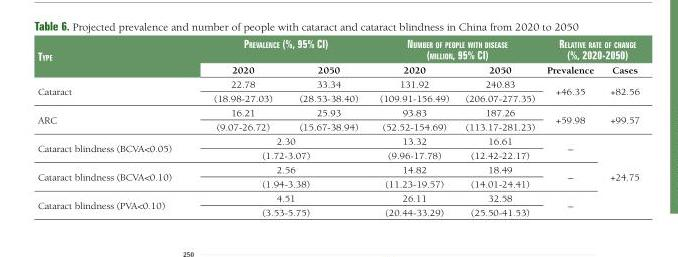table: (36, 36, 638, 217)
table column: (36, 36, 192, 217), (192, 36, 285, 217), (368, 36, 456, 217), (456, 36, 540, 217), (285, 36, 368, 217), (540, 36, 601, 217), (601, 36, 638, 217)
table column header: (36, 36, 638, 77)
table row: (36, 36, 638, 62), (36, 62, 638, 77), (36, 77, 638, 92), (36, 134, 638, 149), (36, 191, 638, 206), (36, 92, 638, 106), (36, 106, 638, 120), (36, 120, 638, 134), (36, 149, 638, 163), (36, 163, 638, 177), (36, 177, 638, 191), (36, 206, 638, 217)
table spanning cell: (36, 36, 192, 77), (192, 36, 368, 62), (36, 77, 192, 106), (36, 134, 192, 163), (368, 36, 540, 62), (36, 106, 192, 134), (36, 163, 192, 191), (36, 191, 192, 217), (601, 134, 638, 217), (192, 134, 368, 149), (192, 191, 368, 206), (540, 36, 638, 62), (192, 149, 368, 163), (192, 163, 368, 177), (192, 177, 368, 191), (192, 206, 368, 217), (540, 77, 601, 106), (540, 134, 601, 163), (540, 106, 601, 134), (540, 163, 601, 191), (540, 191, 601, 217), (601, 77, 638, 106), (601, 106, 638, 134)
